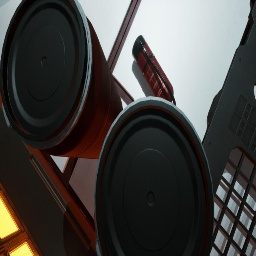FireExtinguisher ]: (132, 35, 176, 106)
